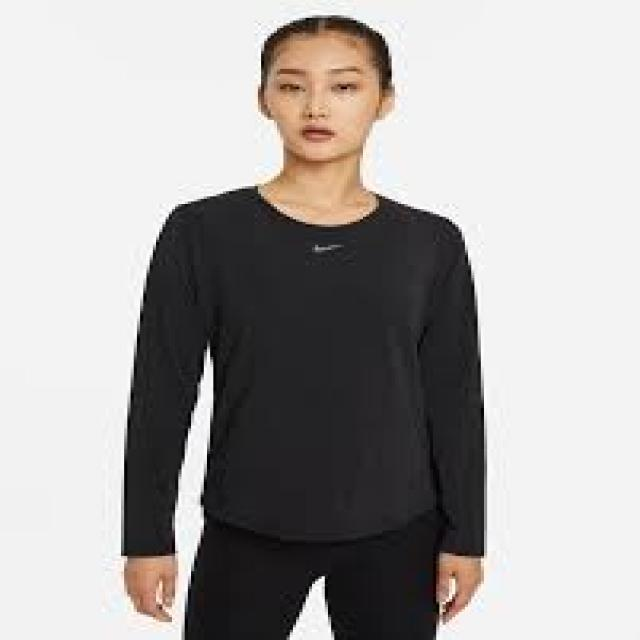plain: (126, 168, 490, 558)
